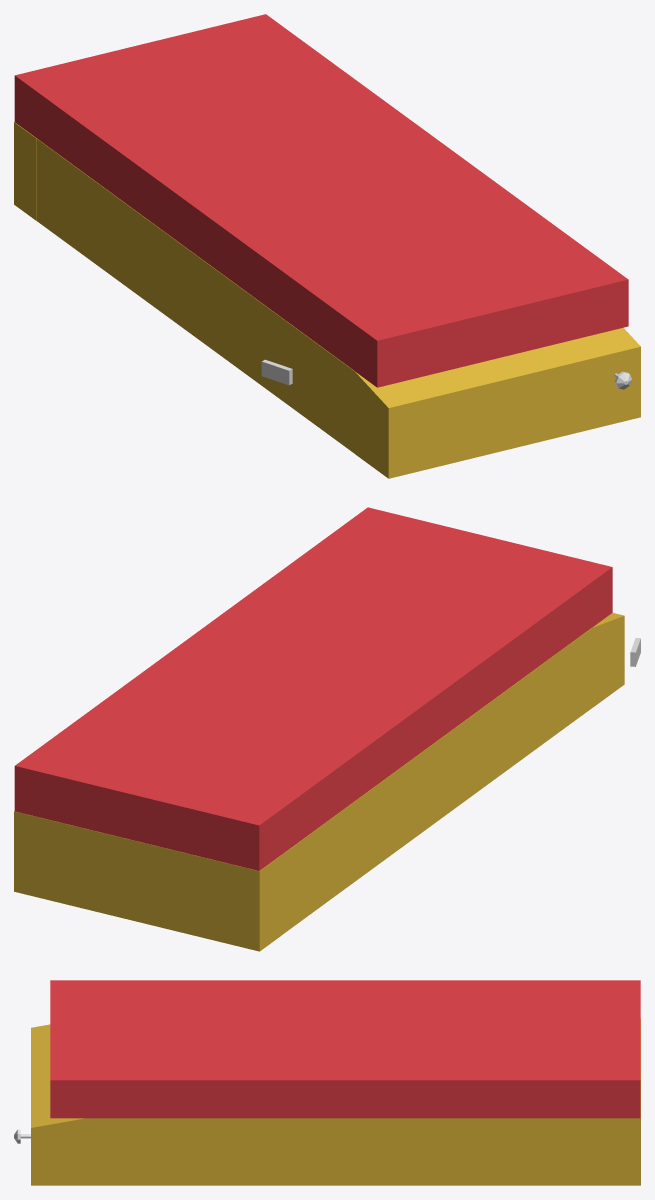
The model's file is table.gltf.
3 views of the same model, one above another, from view 1: azimuth 30°, elevation 25°; view 2: azimuth 150°, elevation 25°; view 3: azimuth 270°, elevation 25° (orthographic). The views are drawn at different scales.
Parts seen in each view (by area): view 1: glass, near wall, left wall, back wall; view 2: glass, left wall, back wall, near wall; view 3: glass, right wall, near wall, back wall.
Part boxes in pixels (bbox=[...]): glass: bbox=[14, 14, 628, 387]; near wall: bbox=[355, 327, 640, 478]; left wall: bbox=[37, 138, 355, 453]; back wall: bbox=[14, 122, 36, 220]; glass: bbox=[14, 507, 612, 870]; left wall: bbox=[282, 628, 591, 934]; back wall: bbox=[14, 811, 281, 951]; near wall: bbox=[592, 612, 624, 707]; glass: bbox=[50, 980, 640, 1118]; right wall: bbox=[85, 1118, 603, 1185]; near wall: bbox=[31, 1024, 85, 1185]; back wall: bbox=[604, 1018, 640, 1185].
Size of the model in its own units: 0.8165 by 0.3134 by 1.69.
